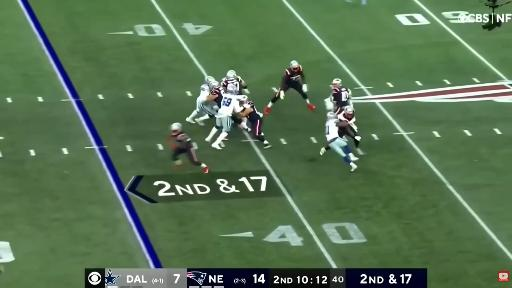Helmet: (170, 123, 182, 134), (227, 84, 238, 94), (226, 70, 237, 79), (209, 81, 219, 89), (205, 76, 214, 84), (344, 106, 353, 114), (291, 61, 299, 70), (327, 112, 337, 119), (239, 95, 247, 102), (291, 61, 299, 68), (332, 79, 341, 85)
Jersey: (217, 94, 242, 117), (281, 66, 304, 90), (331, 87, 351, 107), (221, 76, 243, 94), (243, 102, 261, 123), (171, 132, 191, 148), (325, 119, 338, 141), (197, 85, 210, 104), (210, 88, 222, 107), (339, 111, 355, 122)
Player: (264, 61, 315, 115), (206, 94, 246, 149), (168, 123, 209, 173), (325, 112, 358, 171), (186, 76, 216, 125), (240, 102, 271, 148), (338, 106, 365, 155), (338, 106, 364, 155), (207, 82, 237, 109), (331, 79, 353, 114), (221, 70, 247, 94)
